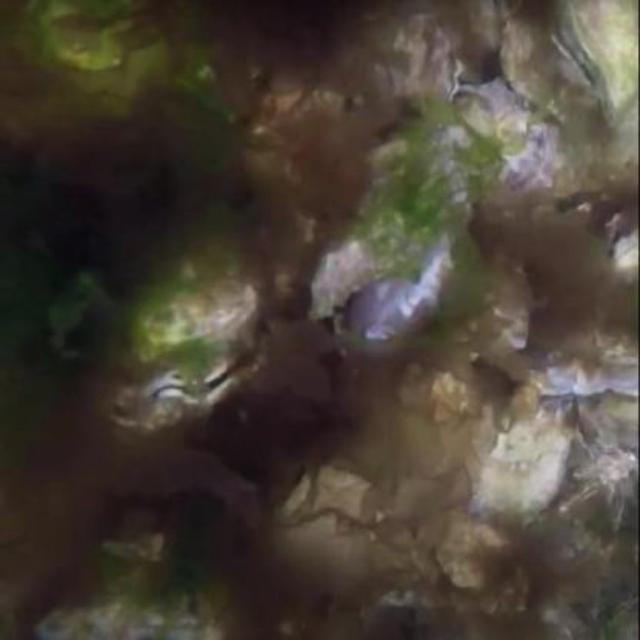Oyster-Closed: (308, 150, 463, 317), (474, 417, 574, 526), (29, 584, 222, 638), (128, 269, 255, 349)
Oyster-Open: (97, 337, 282, 434), (547, 0, 638, 119), (594, 192, 638, 289)
